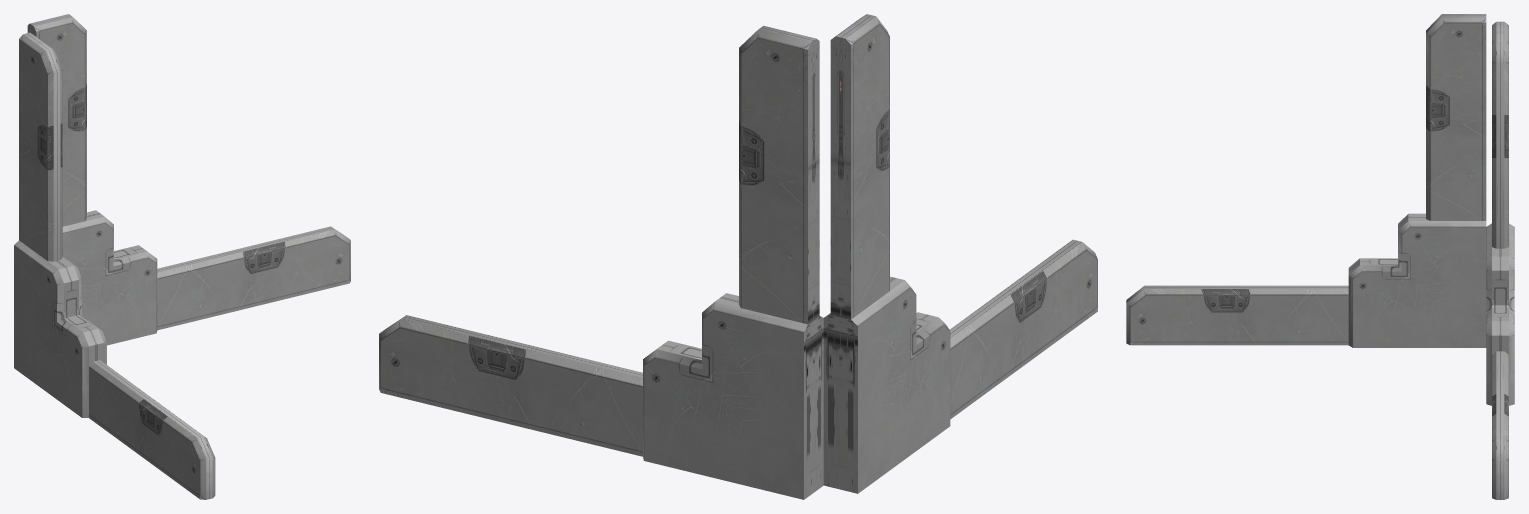
The model's file is SM_SAngle03.fbx.
3 views of the same model, side by side, from view 1: azimuth 30°, elevation 25°; view 2: azimuth 150°, elevation 25°; view 3: azimuth 270°, elevation 25° (orthographic). The views are drawn at different scales.
Visible parts, largest first — view 1: SM_SAngle03_LOD0; view 2: SM_SAngle03_LOD0; view 3: SM_SAngle03_LOD0.
Part boxes in pixels (x1=…): SM_SAngle03_LOD0: x1=14, y1=14, x2=350, y2=499; SM_SAngle03_LOD0: x1=379, y1=14, x2=1097, y2=499; SM_SAngle03_LOD0: x1=1126, y1=14, x2=1514, y2=499.
Bounding box in the file's own units: 341 × 341 × 316.
Materials: 1 (1 with a texture image).
